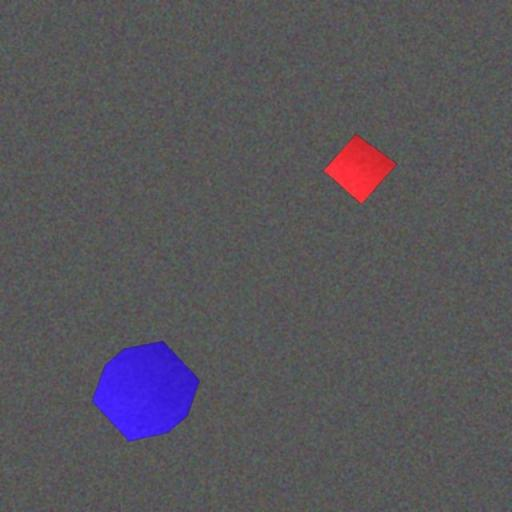RED_SQUARE: (323, 134, 398, 204)
